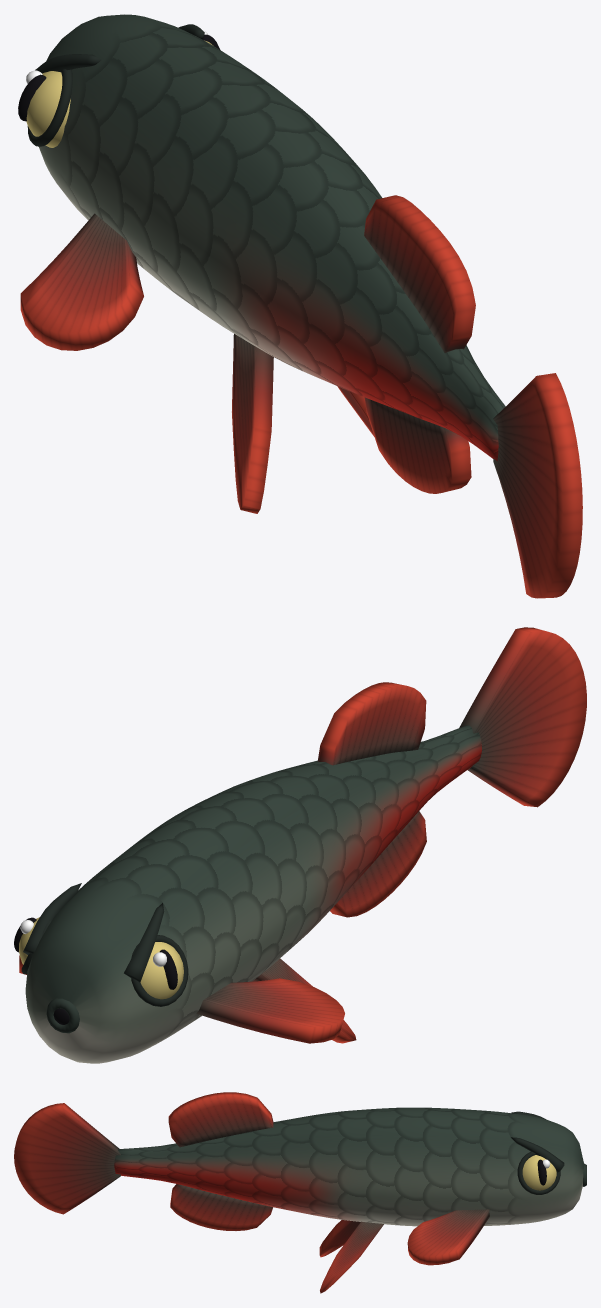
File: Arapaima.glb
3 views of the same model, one above another, from view 1: azimuth 30°, elevation 25°; view 2: azimuth 150°, elevation 25°; view 3: azimuth 270°, elevation 25° (orthographic). The views are drawn at different scales.
Parts seen in each view (by area): view 1: Arapaima; view 2: Arapaima; view 3: Arapaima.
Boxes of the visible parts, x1,y1,x2,y2 form: Arapaima: [18, 14, 582, 598]; Arapaima: [14, 627, 586, 1063]; Arapaima: [14, 1092, 586, 1293].
Bounding box in the file's own units: 1.87 × 1.66 × 4.85.
Materials: 1 (1 with a texture image).
